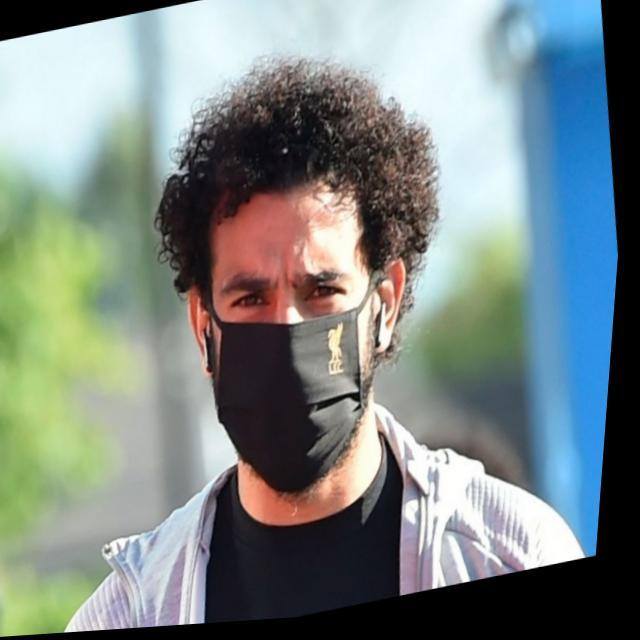Nonhelmet: (148, 50, 445, 494)
